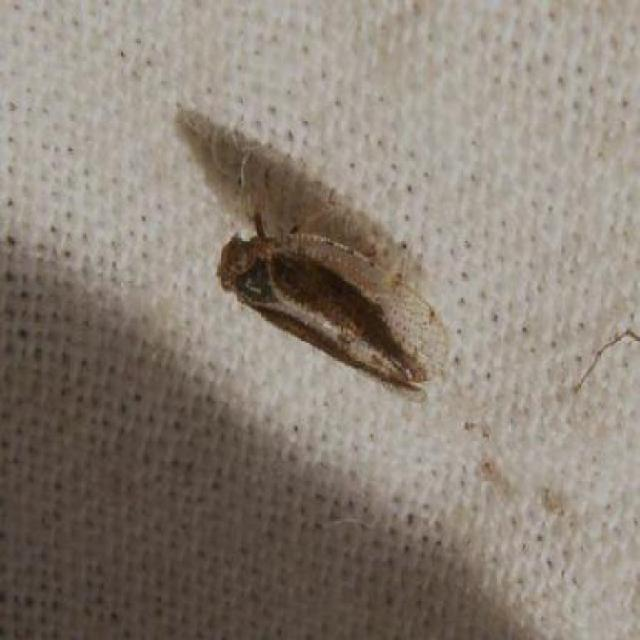brown-planthopper: (210, 213, 441, 404)
